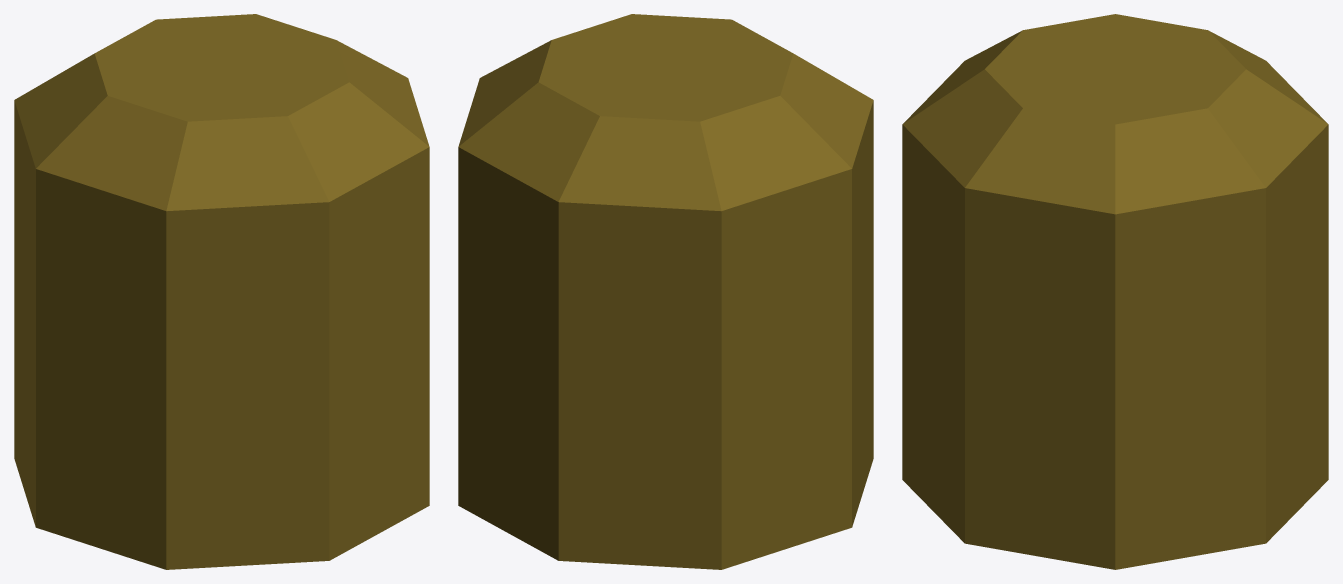
Rendered from thimble01.gltf.
3 views of the same model, side by side, from view 1: azimuth 30°, elevation 25°; view 2: azimuth 150°, elevation 25°; view 3: azimuth 270°, elevation 25° (orthographic).
Parts seen in each view (by area): view 1: Cylinder; view 2: Cylinder; view 3: Cylinder.
Part boxes in pixels (x1,y1,x2,y2): Cylinder: [14, 14, 429, 569]; Cylinder: [458, 14, 873, 569]; Cylinder: [902, 14, 1328, 569].
Bounding box in the file's own units: 0.0229 × 0.0244 × 0.0229.
1 material, 1 textured.
